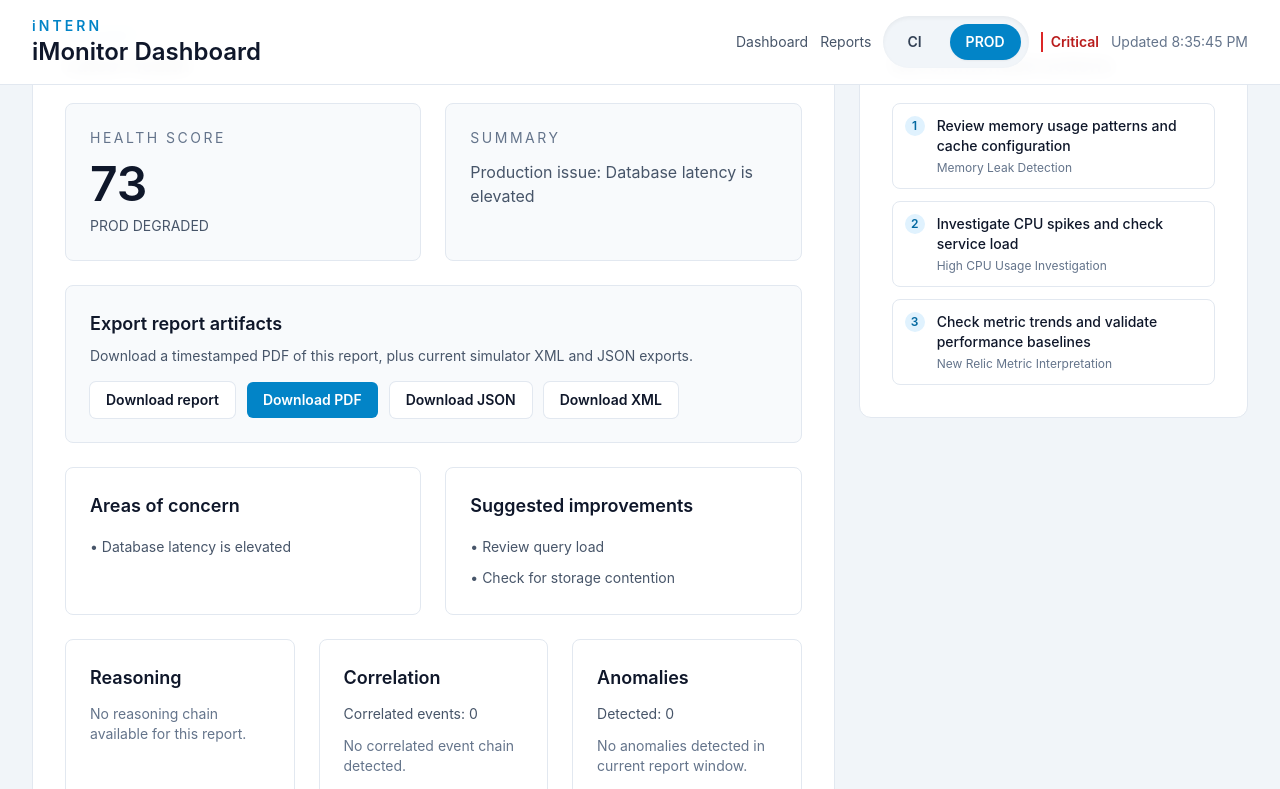
Test: report exports in the dashboard › downloads xml exports and surfaces missing-content failures
(page scrolled)
Click the button "Download XML".
click(611, 400)  # box [544,382,678,418]
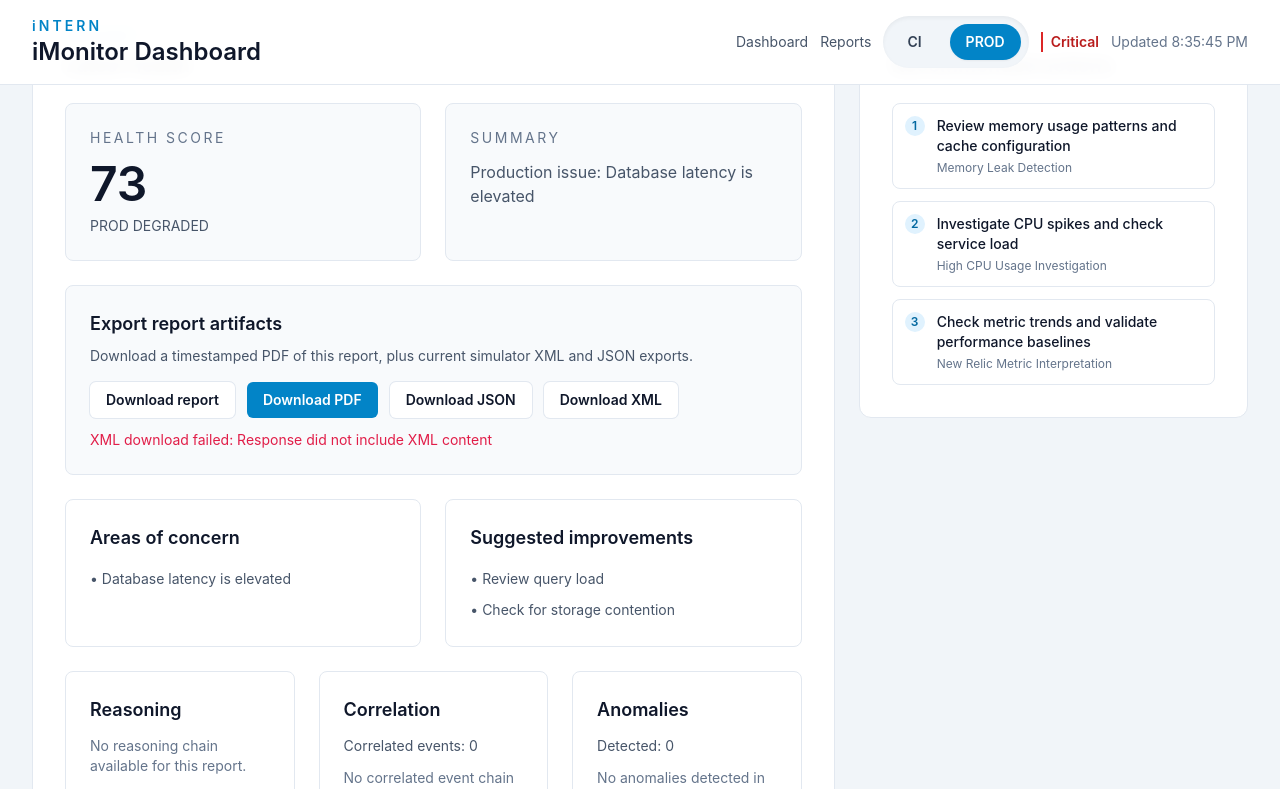
Expected: the text "XML download failed: Response did not include XML content" is shown, [90,431,492,448]
